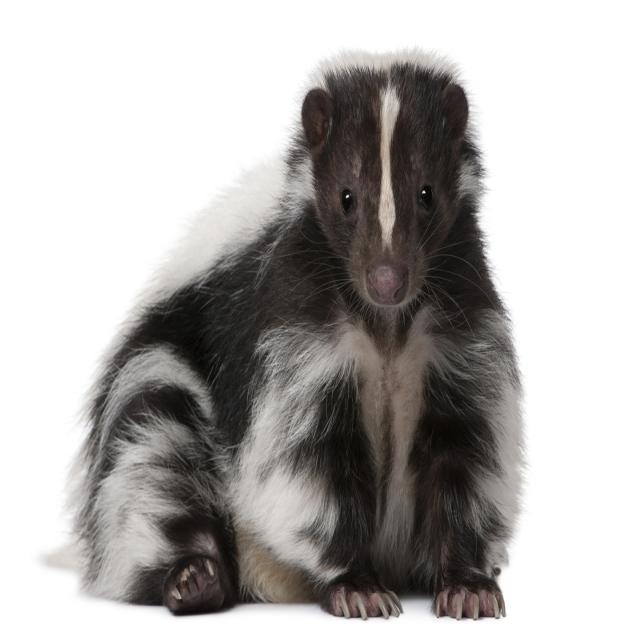Skunk: (66, 33, 524, 623)
